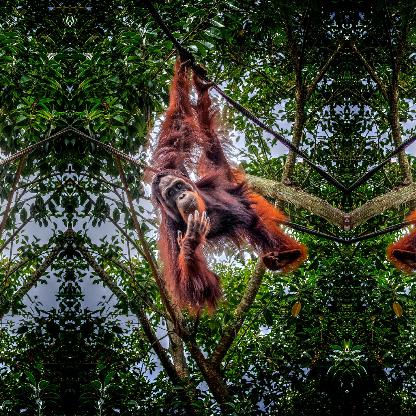Monkey: (140, 68, 298, 290)
